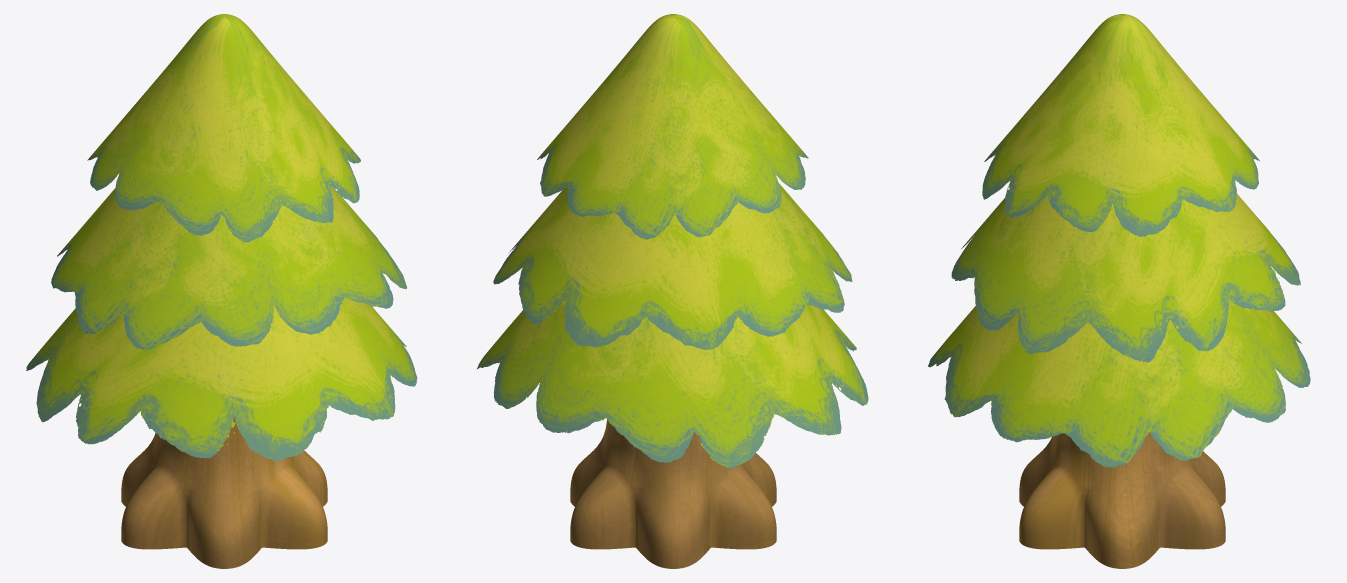
The model's file is Pine Tree01.fbx.
3 renders of one model, left to right at view 1: azimuth 30°, elevation 25°; view 2: azimuth 150°, elevation 25°; view 3: azimuth 270°, elevation 25°, orthographic.
Parts seen in each view (by area): view 1: Trunk; view 2: Trunk; view 3: Trunk.
Part boxes in pixels (bbox=[...]): Trunk: bbox=[26, 14, 417, 568]; Trunk: bbox=[477, 14, 868, 568]; Trunk: bbox=[928, 14, 1310, 568].
Size of the model in its own units: 556 by 738 by 558.
Materials: 2 (2 with a texture image).
